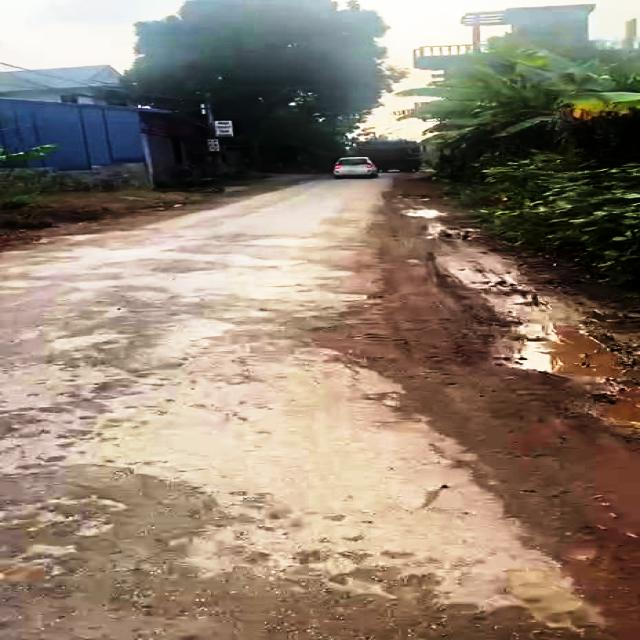pothole: (478, 307, 640, 423)
